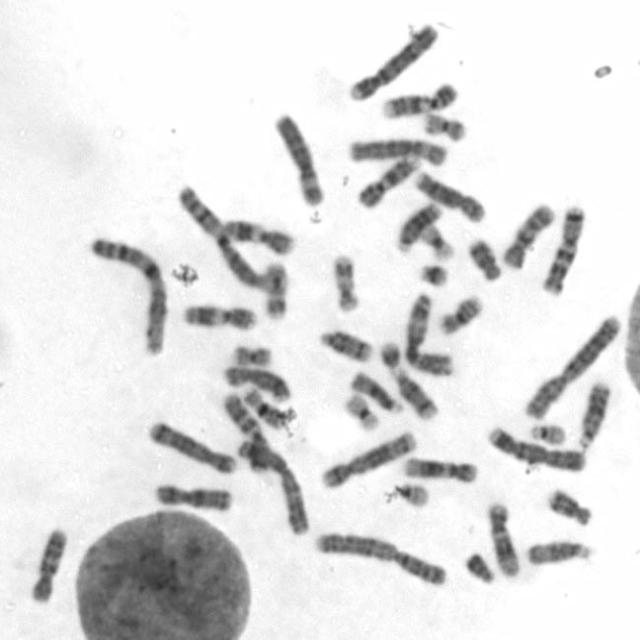A1: (177, 183, 276, 294), (91, 235, 169, 358)
A2: (526, 315, 622, 423), (313, 531, 449, 588)
A3: (236, 440, 309, 537), (403, 293, 456, 377)
B4: (348, 23, 438, 103), (486, 426, 588, 474)
B5: (320, 430, 418, 491), (147, 420, 237, 475)
C10: (502, 201, 557, 271), (30, 526, 70, 604)
C11: (224, 219, 296, 257), (182, 304, 257, 332)
C12: (488, 502, 523, 580), (403, 454, 479, 484)
C6: (274, 110, 326, 208), (348, 138, 448, 168)
C7: (540, 203, 587, 298), (220, 392, 271, 474)
C8: (415, 171, 488, 223), (222, 366, 292, 403)
C9: (358, 154, 420, 210), (383, 81, 458, 121)
D13: (396, 202, 442, 254), (577, 383, 611, 448)
D14: (391, 368, 441, 422), (319, 328, 374, 365)
D15: (348, 369, 405, 416), (526, 538, 590, 567)
E16: (438, 294, 483, 338), (243, 386, 285, 431)
E17: (332, 252, 363, 312), (262, 262, 290, 321)
E18: (545, 488, 595, 529), (468, 238, 503, 280)
F19: (420, 222, 457, 263), (344, 393, 381, 431)
F20: (422, 112, 466, 142), (233, 346, 274, 368)
G21: (419, 262, 449, 288), (377, 340, 401, 372)
G22: (394, 482, 432, 508), (528, 423, 567, 447)
X: (154, 481, 233, 513)
Y: (462, 551, 497, 585)
